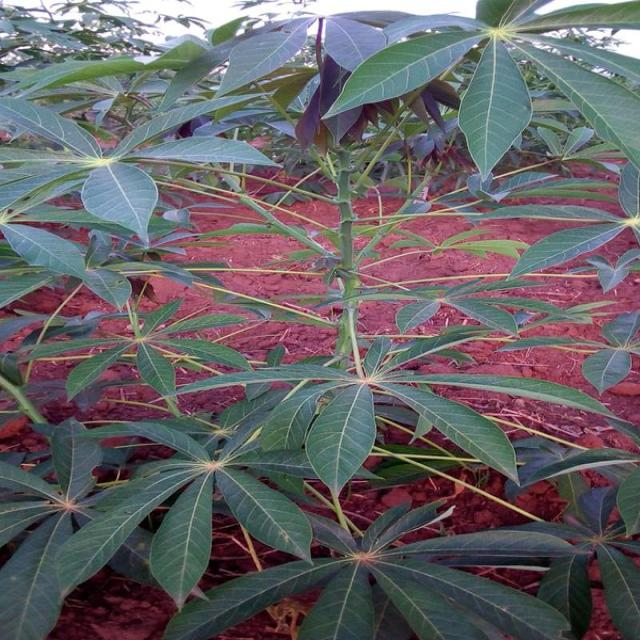cassava leaf: (2, 2, 639, 638), (458, 36, 534, 182), (306, 380, 378, 498), (82, 160, 160, 246)
